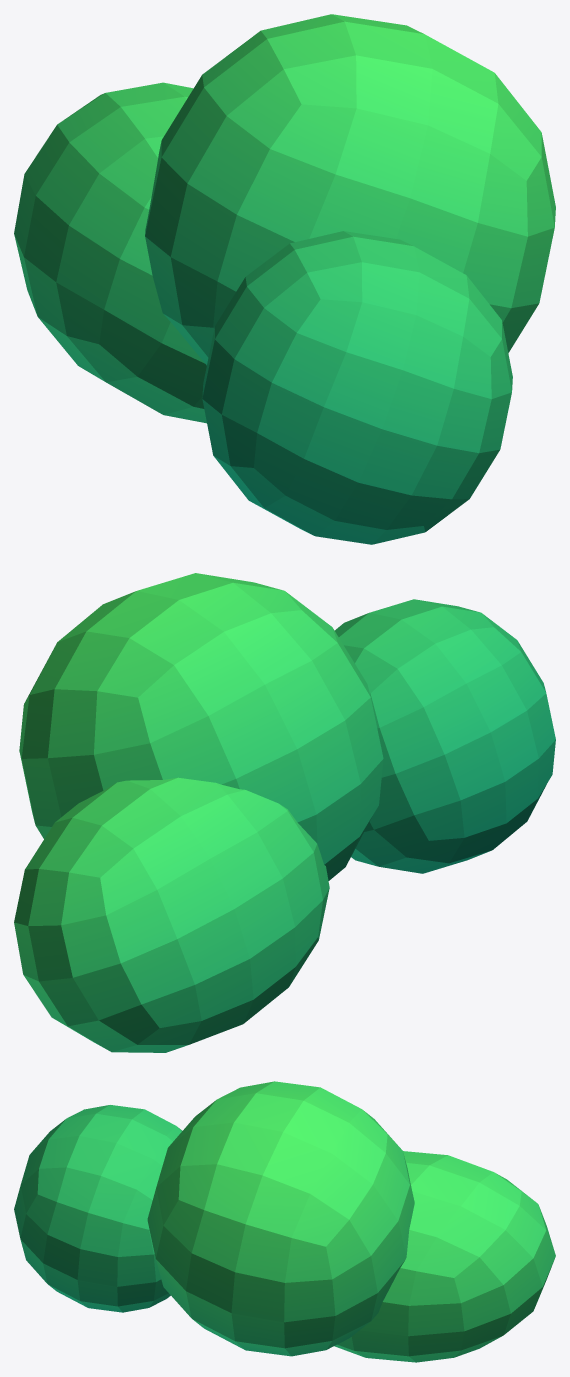
Rendered from Buisson2.fbx.
3 views of the same model, one above another, from view 1: azimuth 30°, elevation 25°; view 2: azimuth 150°, elevation 25°; view 3: azimuth 270°, elevation 25° (orthographic). The views are drawn at different scales.
Parts seen in each view (by area): view 1: Cube.007; view 2: Cube.007; view 3: Cube.007.
Part boxes in pixels (<box>): Cube.007: <box>14,14,555,544</box>; Cube.007: <box>14,573,555,1052</box>; Cube.007: <box>14,1081,555,1362</box>.
Bounding box in the file's own units: 790 × 719 × 1297.
